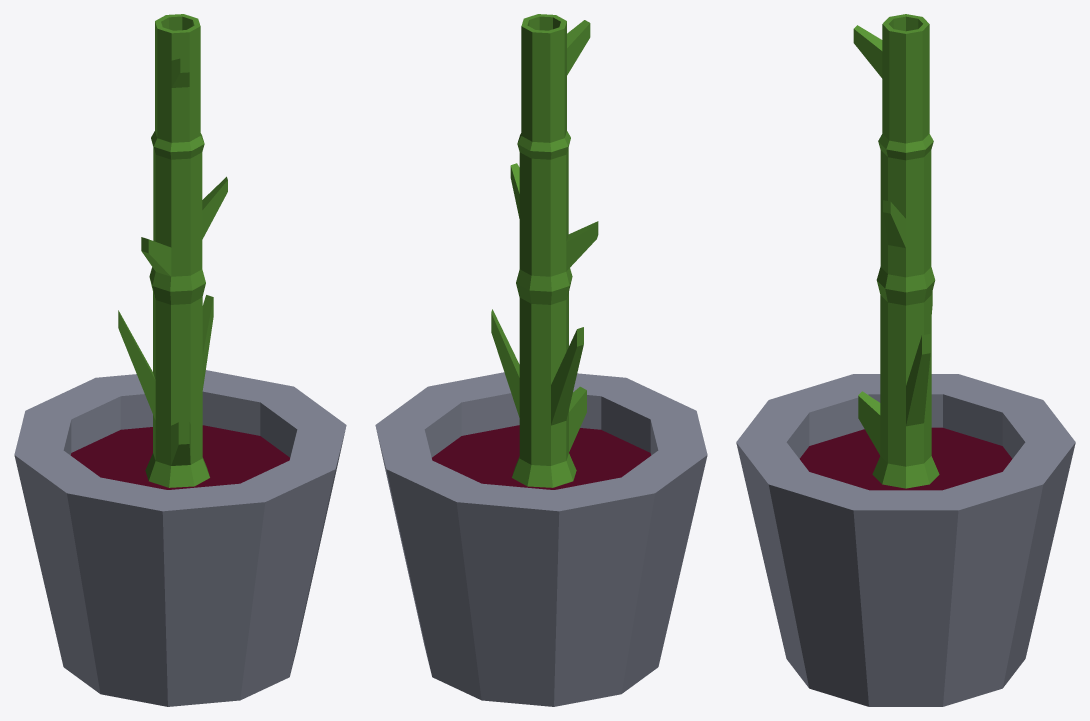
The model's file is Bamboo.fbx.
3 views of the same model, side by side, from view 1: azimuth 30°, elevation 25°; view 2: azimuth 150°, elevation 25°; view 3: azimuth 270°, elevation 25° (orthographic).
Parts seen in each view (by area): view 1: Bamboo; view 2: Bamboo; view 3: Bamboo.
Part boxes in pixels (x1,y1,x2,y2): Bamboo: (14,14,346,706); Bamboo: (375,14,707,706); Bamboo: (736,14,1075,706).
Size of the model in its own units: 141 by 306 by 148.
